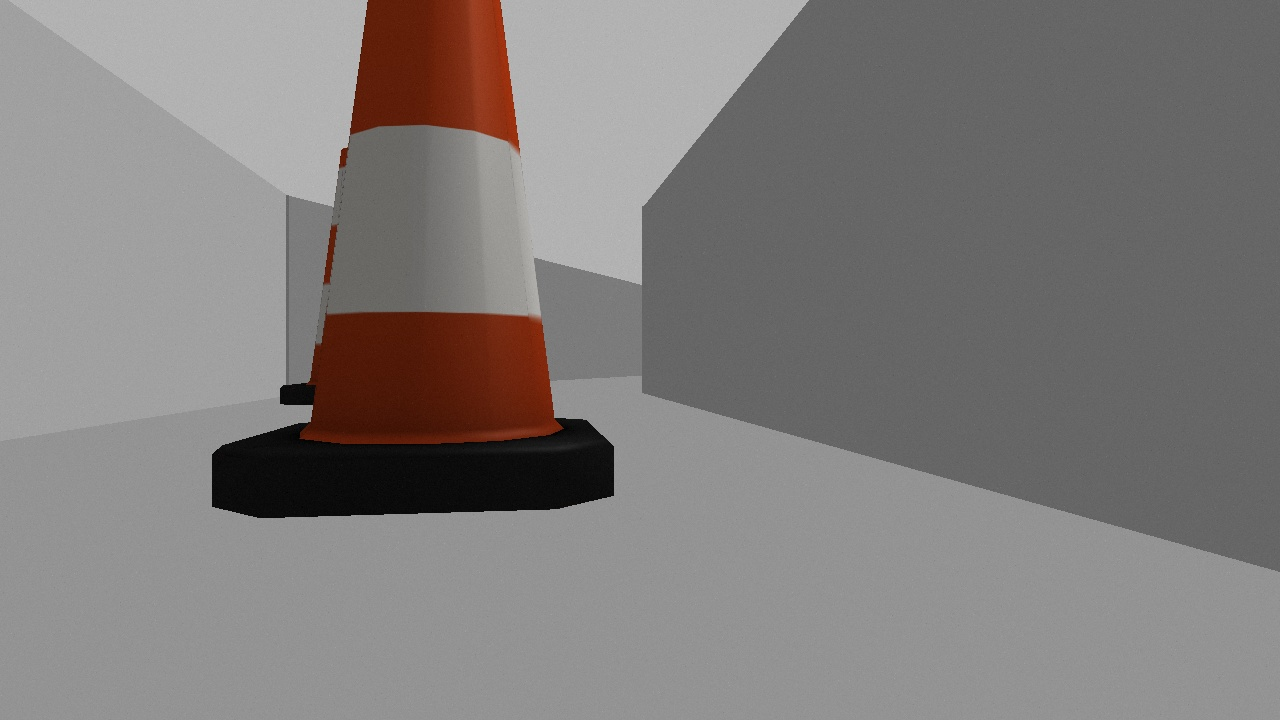barricade: (184, 1, 628, 538)
